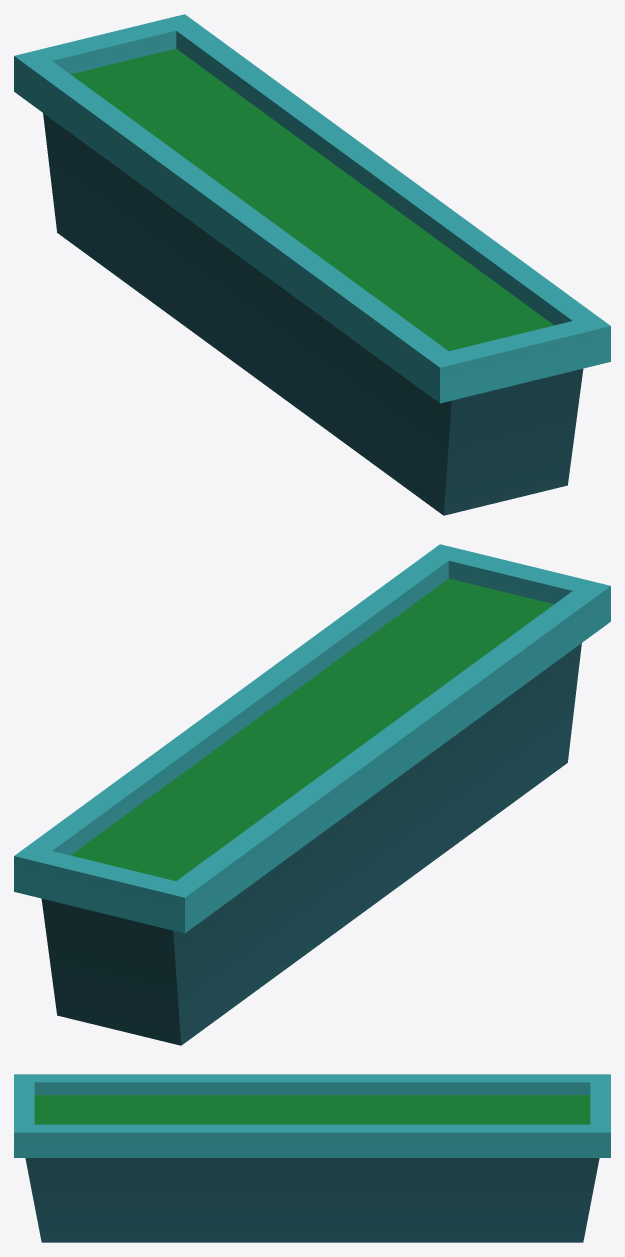
Rendered from FlowerPot_5_1_C.fbx.
3 views of the same model, one above another, from view 1: azimuth 30°, elevation 25°; view 2: azimuth 150°, elevation 25°; view 3: azimuth 270°, elevation 25° (orthographic). The views are drawn at different scales.
Visible parts, largest first — view 1: FlowerPot_5_1_C; view 2: FlowerPot_5_1_C; view 3: FlowerPot_5_1_C.
Boxes of the visible parts, bbox=[...] form: FlowerPot_5_1_C: bbox=[14, 14, 610, 515]; FlowerPot_5_1_C: bbox=[14, 544, 610, 1045]; FlowerPot_5_1_C: bbox=[14, 1074, 610, 1242].
Bounding box in the file's own units: 32.46 × 30.52 × 140.
